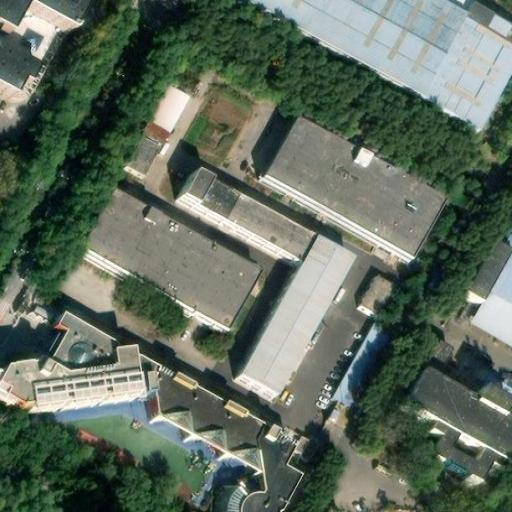building: (0, 316, 308, 512), (258, 120, 440, 262), (72, 190, 254, 332), (235, 234, 353, 396), (180, 168, 313, 263), (423, 1, 512, 135), (409, 372, 512, 460), (466, 230, 512, 348), (428, 418, 509, 481), (330, 325, 381, 402), (140, 80, 189, 140), (122, 128, 162, 172), (361, 273, 395, 315), (422, 331, 457, 367)
